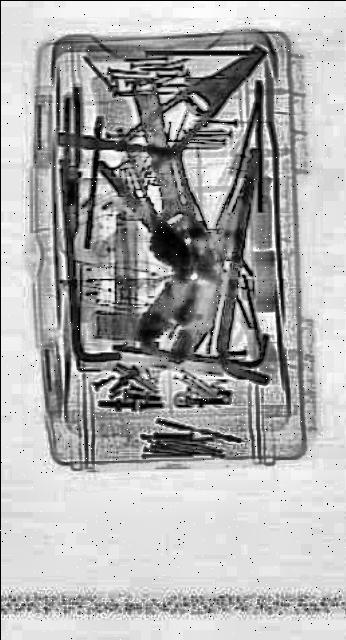Pliers: (113, 27, 270, 195)
Wrench: (116, 64, 202, 280)
